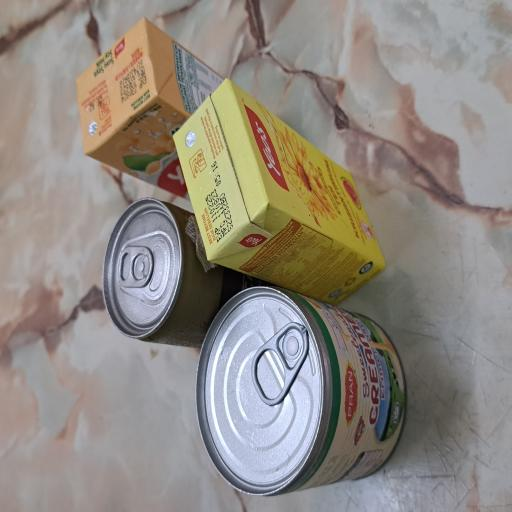can: (11, 258, 169, 512), (124, 139, 236, 303), (167, 154, 201, 204)
drink carton: (154, 228, 327, 512), (238, 104, 370, 302)
pop tab: (78, 332, 143, 414)
